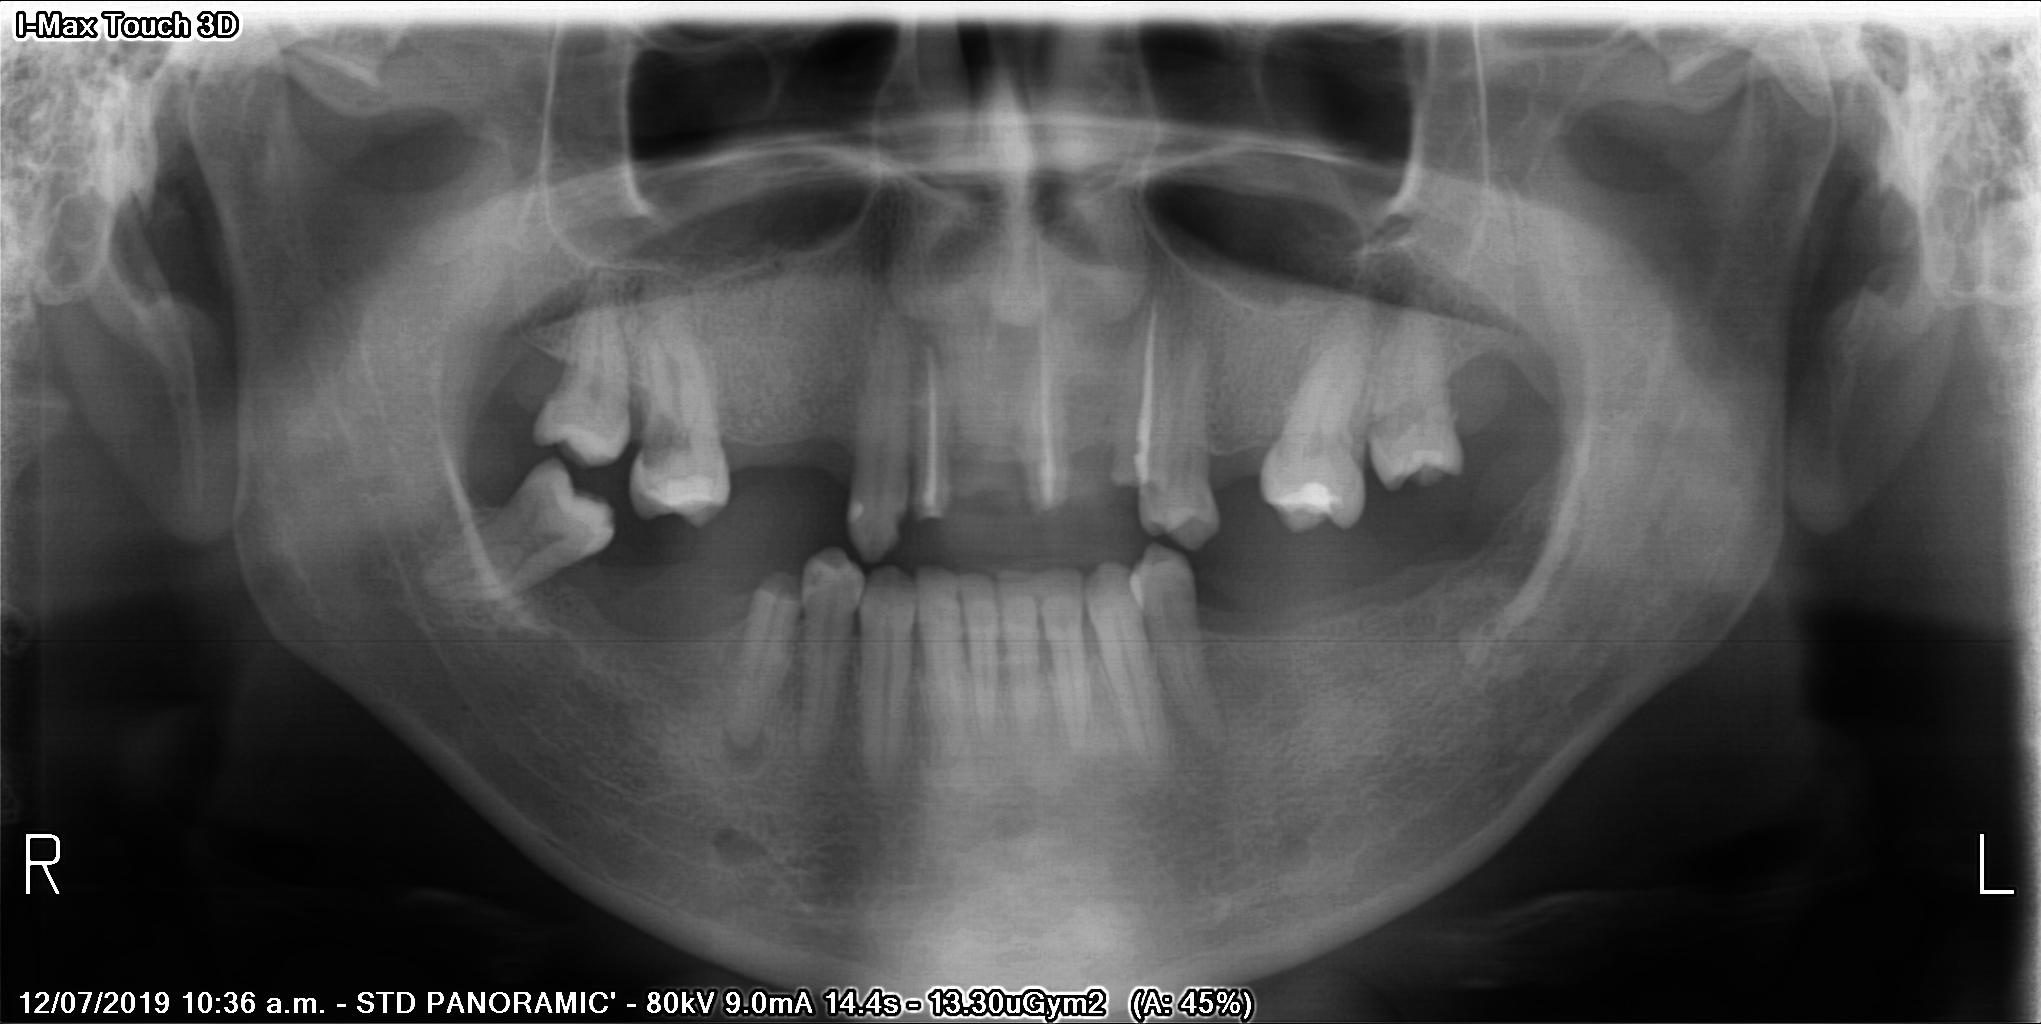Çürük: (1276, 474, 1365, 528), (846, 499, 870, 522)
Çürük Bölgesi: (631, 408, 701, 477), (889, 509, 914, 541), (803, 569, 827, 589)
